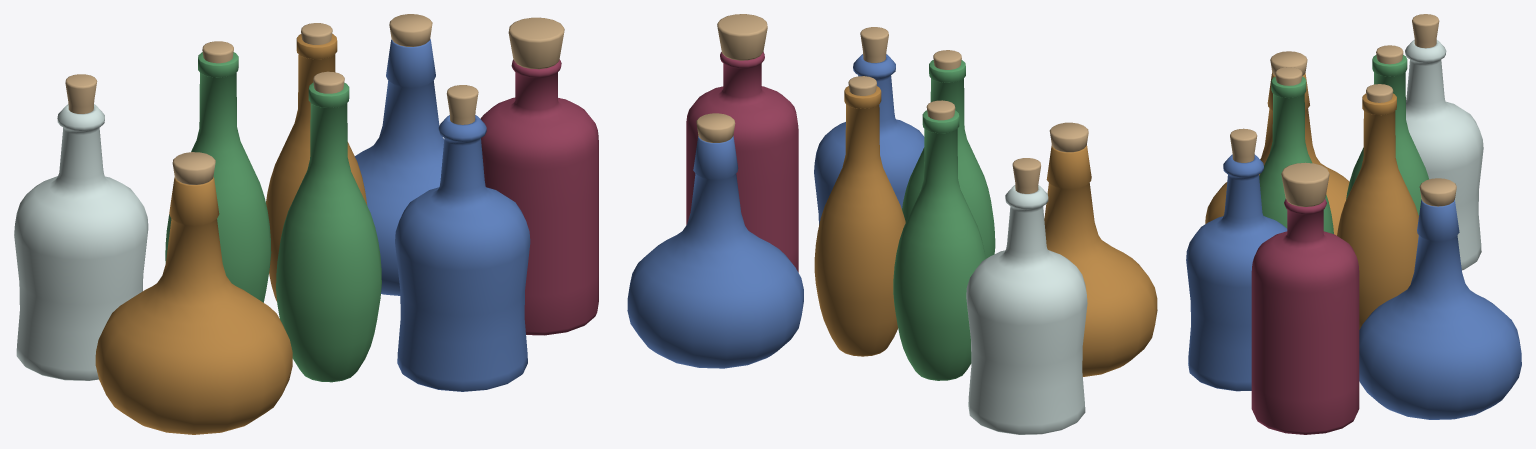
The model's file is Bottle_set_3.glb.
The picture shows the model from 3 angles, left to right: view 1: azimuth 30°, elevation 25°; view 2: azimuth 150°, elevation 25°; view 3: azimuth 270°, elevation 25°; orthographic projection. The views are drawn at different scales.
Parts seen in each view (by area): view 1: Bottle_set_3.005, Bottle_set_3.006, Bottle_set_3.009, Bottle_set_3.007, Bottle_set_3, Bottle_set_3.015, Bottle_set_3.011, Bottle_set_3.013, Bottle_set_3.003, Bottle_set_3.001, Bottle_set_3.014, Bottle_set_3.008 (+4 smaller); view 2: Bottle_set_3.015, Bottle_set_3.009, Bottle_set_3.013, Bottle_set_3.011, Bottle_set_3.005, Bottle_set_3.007, Bottle_set_3.006, Bottle_set_3, Bottle_set_3.003, Bottle_set_3.001, Bottle_set_3.014, Bottle_set_3.008 (+2 smaller); view 3: Bottle_set_3.007, Bottle_set_3.015, Bottle_set_3.006, Bottle_set_3.013, Bottle_set_3.009, Bottle_set_3, Bottle_set_3.011, Bottle_set_3.005, Bottle_set_3.003, Bottle_set_3.014, Bottle_set_3.008, Bottle_set_3.002 (+4 smaller).
Part boxes in pixels (left/top/right/bottom): Bottle_set_3.005: left=95, top=177, right=292, bottom=434; Bottle_set_3.006: left=395, top=115, right=530, bottom=391; Bottle_set_3.009: left=14, top=104, right=148, bottom=380; Bottle_set_3.007: left=480, top=59, right=598, bottom=335; Bottle_set_3: left=276, top=82, right=381, bottom=382; Bottle_set_3.015: left=355, top=39, right=444, bottom=295; Bottle_set_3.011: left=165, top=52, right=271, bottom=302; Bottle_set_3.013: left=266, top=34, right=367, bottom=302; Bottle_set_3.003: left=508, top=17, right=564, bottom=69; Bottle_set_3.001: left=172, top=152, right=215, bottom=184; Bottle_set_3.014: left=389, top=14, right=432, bottom=46; Bottle_set_3.008: left=65, top=74, right=97, bottom=113; Bottle_set_3.015: left=627, top=136, right=803, bottom=368; Bottle_set_3.009: left=966, top=185, right=1087, bottom=434; Bottle_set_3.013: left=814, top=86, right=905, bottom=356; Bottle_set_3.011: left=893, top=110, right=985, bottom=380; Bottle_set_3.005: left=1044, top=145, right=1157, bottom=376; Bottle_set_3.007: left=686, top=52, right=798, bottom=272; Bottle_set_3.006: left=814, top=54, right=924, bottom=224; Bottle_set_3: left=902, top=60, right=995, bottom=258; Bottle_set_3.003: left=717, top=14, right=767, bottom=60; Bottle_set_3.001: left=1049, top=122, right=1088, bottom=152; Bottle_set_3.014: left=696, top=113, right=735, bottom=142; Bottle_set_3.008: left=1012, top=158, right=1040, bottom=193; Bottle_set_3.007: left=1251, top=199, right=1359, bottom=434; Bottle_set_3.015: left=1359, top=199, right=1521, bottom=419; Bottle_set_3.006: left=1186, top=154, right=1287, bottom=391; Bottle_set_3.013: left=1337, top=93, right=1418, bottom=329; Bottle_set_3.009: left=1405, top=40, right=1483, bottom=270; Bottle_set_3: left=1259, top=76, right=1333, bottom=233; Bottle_set_3.011: left=1346, top=55, right=1428, bottom=215; Bottle_set_3.005: left=1205, top=72, right=1349, bottom=235; Bottle_set_3.003: left=1281, top=162, right=1329, bottom=206; Bottle_set_3.014: left=1419, top=178, right=1456, bottom=206; Bottle_set_3.008: left=1412, top=14, right=1439, bottom=48; Bottle_set_3.002: left=1230, top=128, right=1257, bottom=162.
Size of the model in its own units: 0.6076 by 0.3431 by 0.4146.
